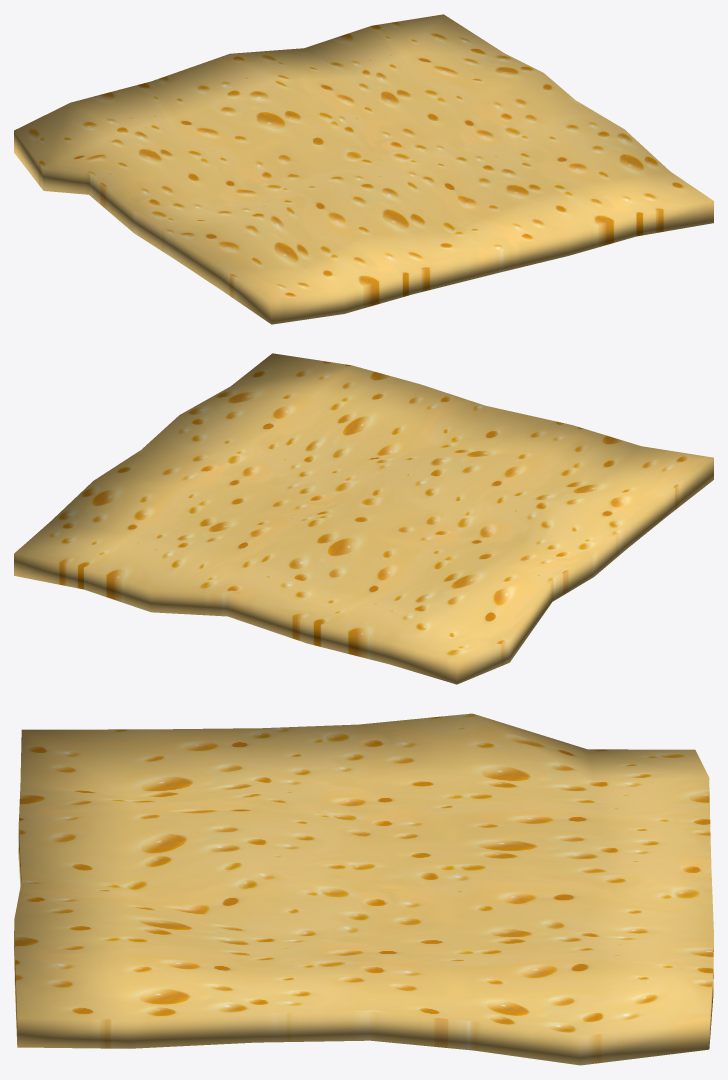
Rendered from cheese-slice.fbx.
3 renders of one model, top to bottom at view 1: azimuth 30°, elevation 25°; view 2: azimuth 150°, elevation 25°; view 3: azimuth 270°, elevation 25°, orthographic. The views are drawn at different scales.
Parts seen in each view (by area): view 1: cheese_slice; view 2: cheese_slice; view 3: cheese_slice.
Part boxes in pixels (left/top/right/bottom): cheese_slice: left=14, top=14, right=713, bottom=324; cheese_slice: left=14, top=353, right=713, bottom=684; cheese_slice: left=14, top=713, right=713, bottom=1065.
Size of the model in its own units: 10.06 by 1.05 by 10.13.
Materials: 1 (1 with a texture image).
